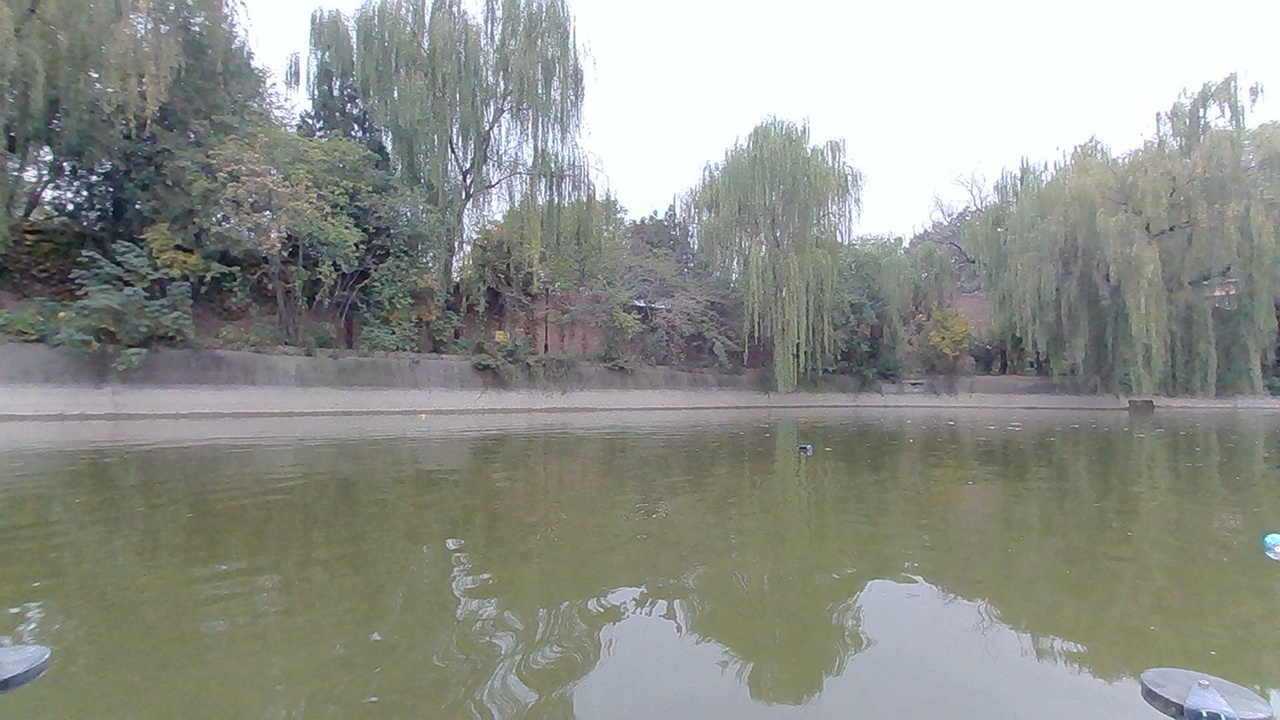bottle: (1250, 527, 1279, 570), (794, 433, 822, 459)
